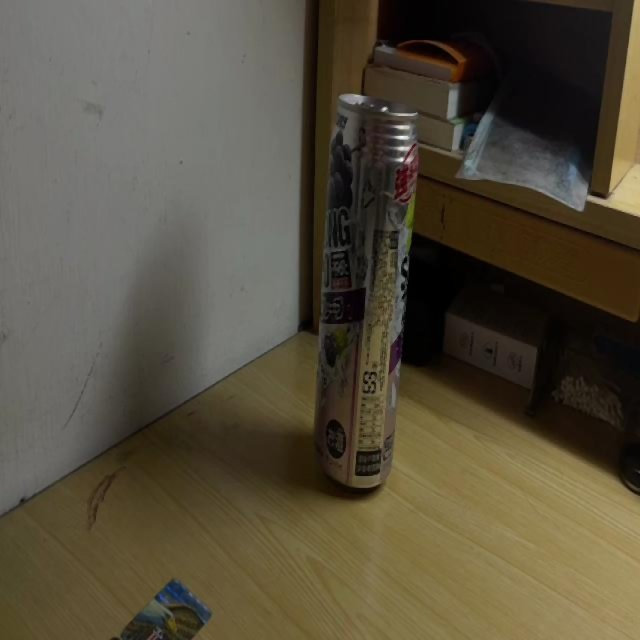Liquor: (312, 91, 420, 496)
